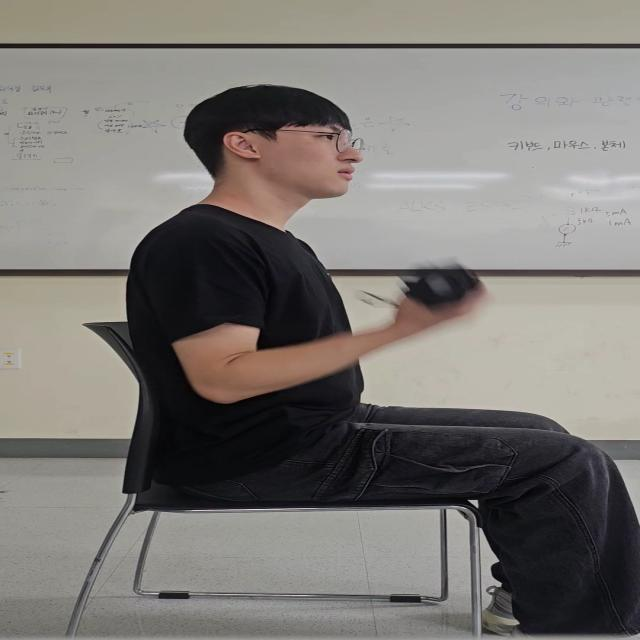curl: (148, 197, 498, 406)
